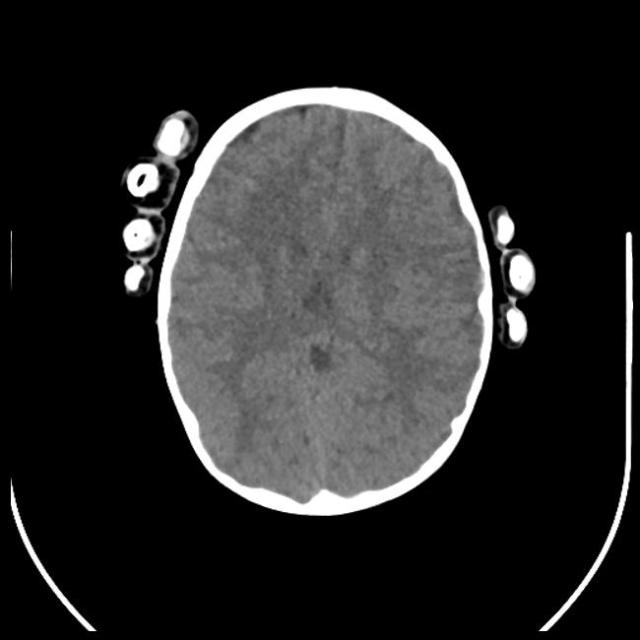lesion: (231, 94, 317, 162)
